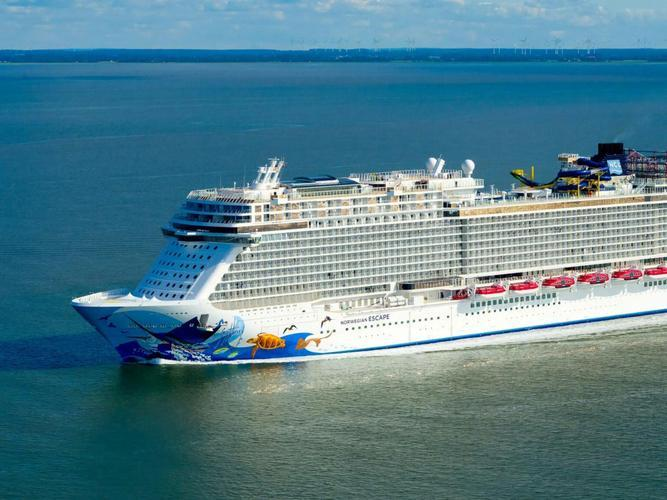Ship: (70, 120, 667, 359)
